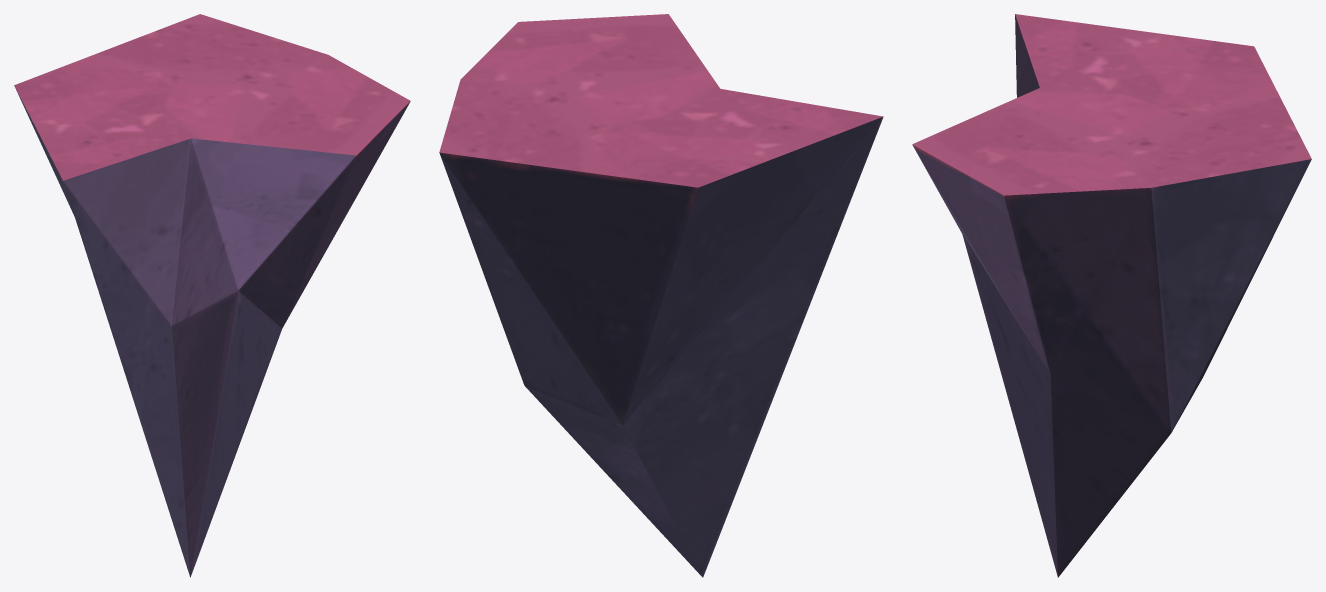
The model's file is floating_rock2.fbx.
3 views of the same model, side by side, from view 1: azimuth 30°, elevation 25°; view 2: azimuth 150°, elevation 25°; view 3: azimuth 270°, elevation 25° (orthographic). The views are drawn at different scales.
Visible parts, largest first — view 1: floating_rock2; view 2: floating_rock2; view 3: floating_rock2.
Boxes of the visible parts, left/top/right/bottom form: floating_rock2: left=14, top=14, right=410, bottom=577; floating_rock2: left=439, top=14, right=883, bottom=577; floating_rock2: left=912, top=14, right=1311, bottom=577.
Bounding box in the file's own units: 0.0286 × 0.0357 × 0.0266.
